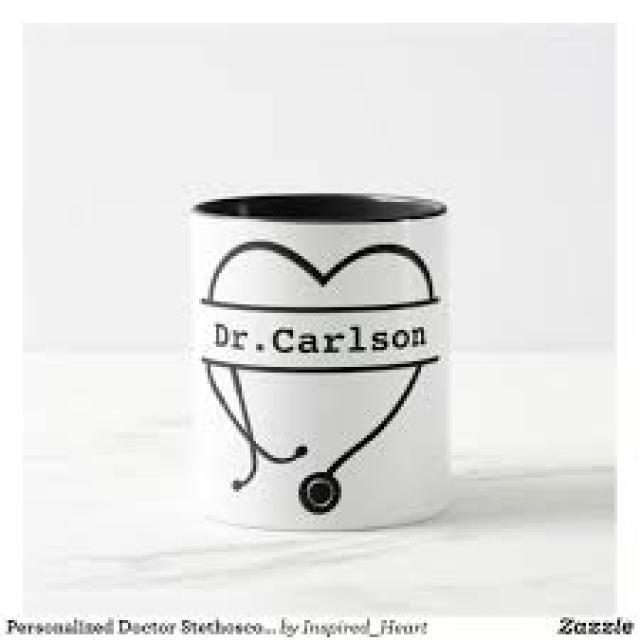taza: (167, 182, 480, 554)
